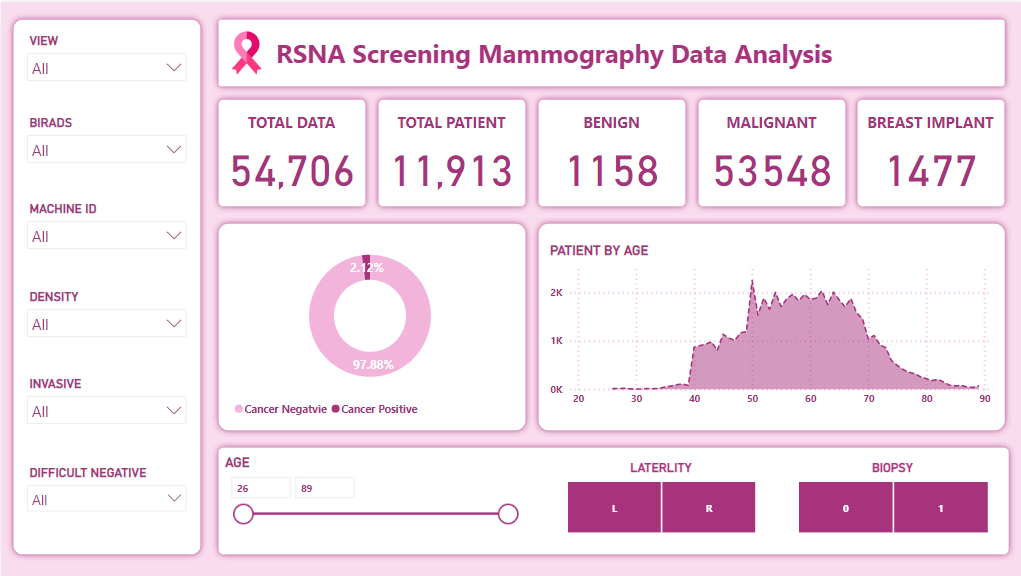

Layout of this report page (visuals, bound fields, positions):
{"tool":"powerbi","page":{"name":"BREAST CANCER","canvas":[1280,720],"ordinal":0},"visuals":[{"type":"shape","box":[263.7,13.8,998.8,100],"z":0,"group":"g5"},{"type":"group","id":"g1","title":"Group 7","box":[263.5,113.8,1004,585],"z":0,"group":"g13"},{"type":"shape","box":[263.5,113.8,199.8,150],"z":0,"group":"g8"},{"type":"shape","box":[463.3,113.8,199.8,150],"z":0,"group":"g9"},{"type":"shape","box":[663.1,113.8,199.8,150],"z":0,"group":"g10"},{"type":"shape","box":[862.9,113.8,199.8,150],"z":0,"group":"g11"},{"type":"shape","box":[1062.7,113.8,199.8,150],"z":0,"group":"g12"},{"type":"shape","box":[663.1,268.8,599.4,275],"z":0,"group":"g4"},{"type":"group","id":"g2","title":"Group 2","box":[263.5,269,399.6,275],"z":0,"group":"g1"},{"type":"shape","box":[263.5,269,399.6,275],"z":0,"group":"g2"},{"type":"shape","box":[263.5,548.8,1004,150],"z":0,"group":"g6"},{"type":"group","id":"g3","title":"Group 5","box":[7.5,13.8,250,685],"z":1000,"group":"g13"},{"type":"image","box":[275.2,23.6,63.7,80],"z":1000,"group":"g5"},{"type":"card","fields":{"Values":["CountNonNull(Breast_Cancer.image_id)"]},"box":[274.9,132.4,176.3,112.1],"z":1000,"group":"g8"},{"type":"card","fields":{"Values":["Count(Breast_Cancer.patient_id)"]},"box":[474.7,132.4,176.3,112.1],"z":1000,"group":"g9"},{"type":"card","fields":{"Values":["Breast_Cancer.Cancer Positive"]},"box":[674.5,132.4,176.3,112.1],"z":1000,"group":"g10"},{"type":"card","fields":{"Values":["Breast_Cancer.Cancer Negatvie"]},"box":[874.3,132.4,176.3,112.1],"z":1000,"group":"g11"},{"type":"card","fields":{"Values":["Breast_Cancer.Breast implanted"]},"box":[1074.1,132.4,176.3,112.1],"z":1000,"group":"g12"},{"type":"group","id":"g4","title":"Group 3","box":[663.1,268.8,599.4,275],"z":1000,"group":"g1"},{"type":"donutChart","fields":{"Y":["Breast_Cancer.Cancer Negatvie","Breast_Cancer.Cancer Positive"]},"box":[285.4,286,350.3,241.1],"z":1000,"group":"g2"},{"type":"slicer","title":"AGE","fields":{"Values":["Breast_Cancer.age"]},"box":[275.2,564.7,380.6,110],"z":1000,"group":"g6"},{"type":"group","id":"g5","title":"Group 8","box":[263.7,13.8,998.8,100],"z":2000,"group":"g13"},{"type":"textbox","box":[338.7,36.3,772.5,56.2],"z":2000,"group":"g5"},{"type":"group","id":"g6","title":"Group 4","box":[263.5,548.8,1004,150],"z":2000,"group":"g1"},{"type":"slicer","title":"LATERLITY","fields":{"Values":["Breast_Cancer.laterality"]},"box":[678.6,564.7,288.3,110],"z":2000,"group":"g6"},{"type":"shape","box":[7.5,13.8,250,685],"z":2500,"group":"g3"},{"type":"slicer","fields":{"Values":["Breast_Cancer.view"]},"box":[22.5,34.3,218.9,118.5],"z":3000,"group":"g3"},{"type":"group","id":"g7","title":"Group 6","box":[263.5,113.8,999,150],"z":3000,"group":"g1"},{"type":"group","id":"g8","title":"Group 1","box":[263.5,113.8,199.8,150],"z":4000,"group":"g7"},{"type":"group","id":"g9","title":"Group 1","box":[463.3,113.8,199.8,150],"z":5000,"group":"g7"},{"type":"group","id":"g10","title":"Group 1","box":[663.1,113.8,199.8,150],"z":6000,"group":"g7"},{"type":"group","id":"g11","title":"Group 1","box":[862.9,113.8,199.8,150],"z":7000,"group":"g7"},{"type":"group","id":"g12","title":"Group 1","box":[1062.7,113.8,199.8,150],"z":8000,"group":"g7"},{"type":"areaChart","title":"PATIENT BY AGE","fields":{"Category":["Breast_Cancer.age"],"Y":["CountNonNull(Breast_Cancer.cancer)"]},"box":[680.7,299.9,563,214],"z":10000,"group":"g4"},{"type":"slicer","fields":{"Values":["Breast_Cancer.BIRADS"]},"box":[22.5,136.7,218.9,118.5],"z":11000,"group":"g3"},{"type":"slicer","fields":{"Values":["Breast_Cancer.machine_id"]},"box":[22.5,243.5,218.9,118.5],"z":12000,"group":"g3"},{"type":"slicer","fields":{"Values":["Breast_Cancer.density"]},"box":[22.5,353.3,218.9,118.5],"z":13000,"group":"g3"},{"type":"slicer","fields":{"Values":["Breast_Cancer.invasive"]},"box":[22.5,463,218.9,117.1],"z":14000,"group":"g3"},{"type":"slicer","fields":{"Values":["Breast_Cancer.difficult_negative_case"]},"box":[22.5,574.2,218.9,120],"z":15000,"group":"g3"},{"type":"slicer","title":"BIOPSY","fields":{"Values":["Breast_Cancer.biopsy"]},"box":[966.8,564.7,289.7,110],"z":16000,"group":"g6"},{"type":"group","id":"g13","title":"Group 9","box":[7.5,13.8,1260,685],"z":16011}]}

Visuals, with their boxes in screenshot pixels (x1, y1, x2, y2), scaled from the page's 1280x720 canvas onto the 1021x576 screenshot:
shape: box(210, 11, 1007, 91)
"Group 7" group: box(210, 91, 1011, 559)
shape: box(210, 91, 370, 211)
shape: box(370, 91, 529, 211)
shape: box(529, 91, 688, 211)
shape: box(688, 91, 848, 211)
shape: box(848, 91, 1007, 211)
shape: box(529, 215, 1007, 435)
"Group 2" group: box(210, 215, 529, 435)
shape: box(210, 215, 529, 435)
shape: box(210, 439, 1011, 559)
"Group 5" group: box(6, 11, 205, 559)
image: box(220, 19, 270, 83)
card - CountNonNull(Breast_Cancer.image_id): box(219, 106, 360, 196)
card - Count(Breast_Cancer.patient_id): box(379, 106, 519, 196)
card - Breast_Cancer.Cancer Positive: box(538, 106, 679, 196)
card - Breast_Cancer.Cancer Negatvie: box(697, 106, 838, 196)
card - Breast_Cancer.Breast implanted: box(857, 106, 997, 196)
"Group 3" group: box(529, 215, 1007, 435)
donutChart - Breast_Cancer.Cancer Negatvie x Breast_Cancer.Cancer Positive: box(228, 229, 507, 422)
"AGE" slicer: box(220, 452, 523, 540)
"Group 8" group: box(210, 11, 1007, 91)
textbox: box(270, 29, 886, 74)
"Group 4" group: box(210, 439, 1011, 559)
"LATERLITY" slicer: box(541, 452, 771, 540)
shape: box(6, 11, 205, 559)
slicer - Breast_Cancer.view: box(18, 27, 193, 122)
"Group 6" group: box(210, 91, 1007, 211)
"Group 1" group: box(210, 91, 370, 211)
"Group 1" group: box(370, 91, 529, 211)
"Group 1" group: box(529, 91, 688, 211)
"Group 1" group: box(688, 91, 848, 211)
"Group 1" group: box(848, 91, 1007, 211)
"PATIENT BY AGE" areaChart: box(543, 240, 992, 411)
slicer - Breast_Cancer.BIRADS: box(18, 109, 193, 204)
slicer - Breast_Cancer.machine_id: box(18, 195, 193, 290)
slicer - Breast_Cancer.density: box(18, 283, 193, 377)
slicer - Breast_Cancer.invasive: box(18, 370, 193, 464)
slicer - Breast_Cancer.difficult_negative_case: box(18, 459, 193, 555)
"BIOPSY" slicer: box(771, 452, 1002, 540)
"Group 9" group: box(6, 11, 1011, 559)
